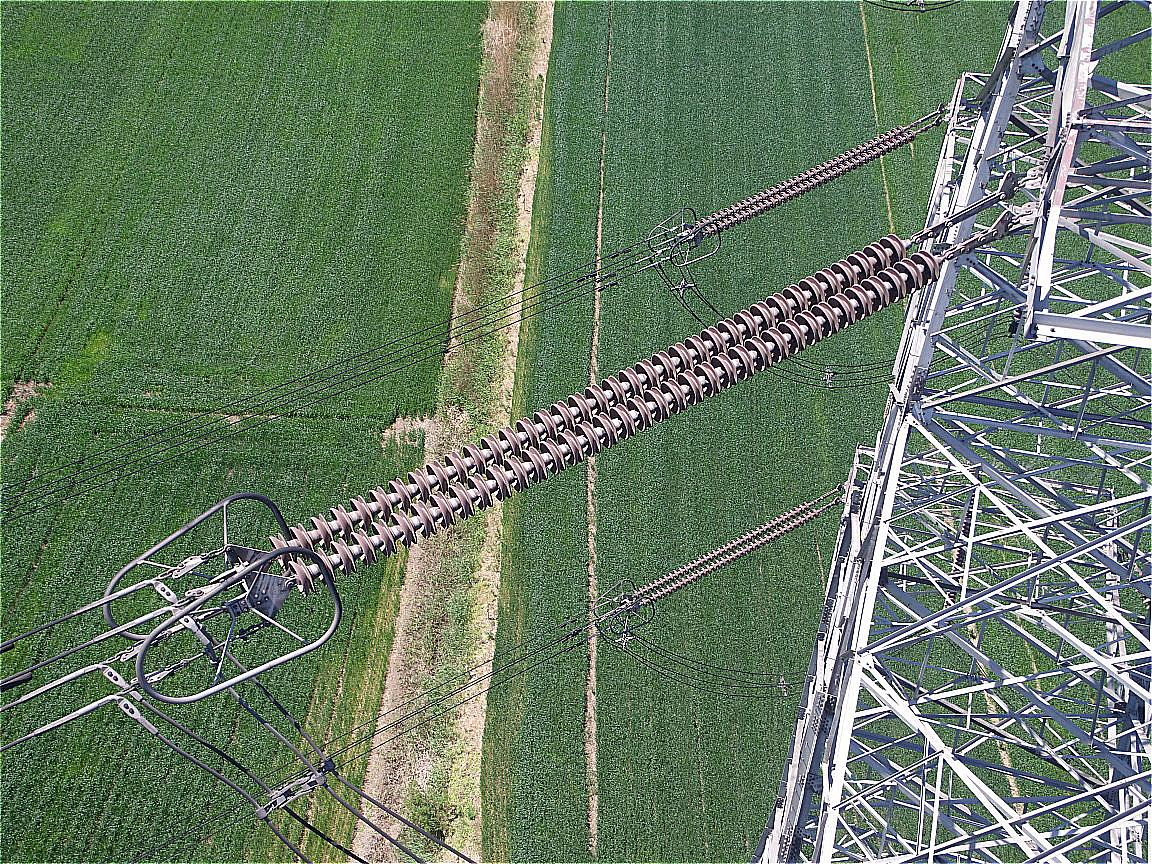insultor1: (700, 125, 920, 240), (634, 502, 821, 611)
insultor2: (269, 232, 937, 598)
